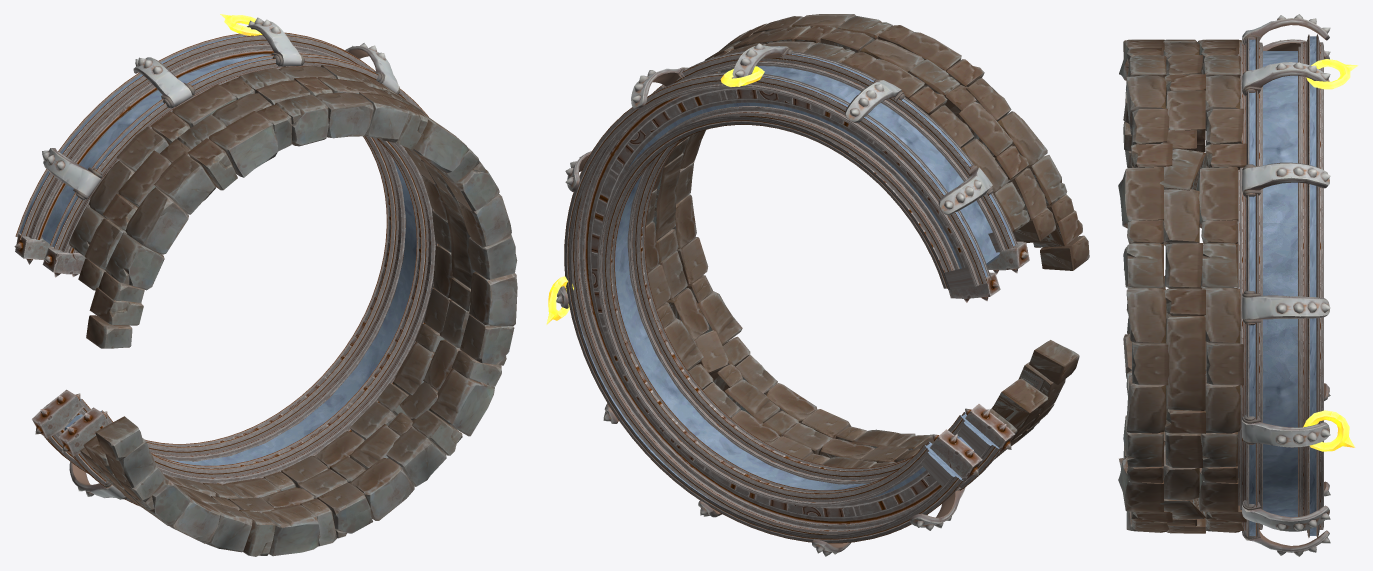
The model's file is Tremor_Chimney_Mid.fbx.
3 renders of one model, left to right at view 1: azimuth 30°, elevation 25°; view 2: azimuth 150°, elevation 25°; view 3: azimuth 270°, elevation 25°, orthographic.
Visible parts, largest first — view 1: Tremor_Chimney_Mid; view 2: Tremor_Chimney_Mid; view 3: Tremor_Chimney_Mid.
Part boxes in pixels (x1,y1,x2,y2): Tremor_Chimney_Mid: [14, 14, 517, 556]; Tremor_Chimney_Mid: [546, 14, 1089, 556]; Tremor_Chimney_Mid: [1118, 14, 1358, 556].
Size of the model in its own units: 1666 by 1736 by 779.
